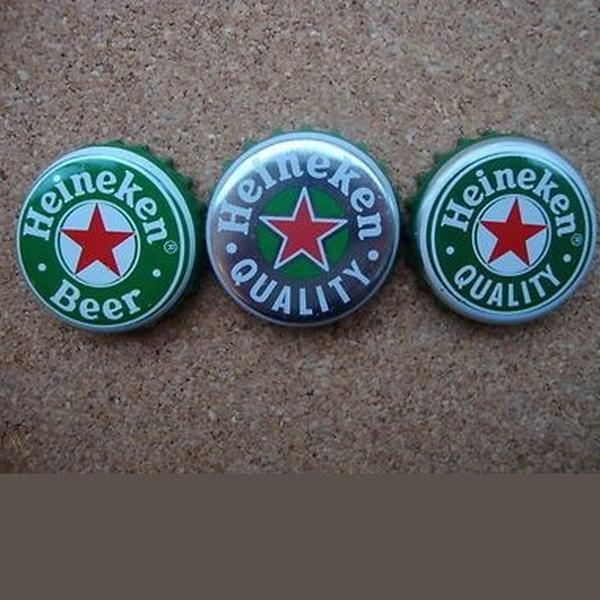heineken: (201, 125, 402, 336), (14, 140, 197, 346), (415, 130, 597, 327)
